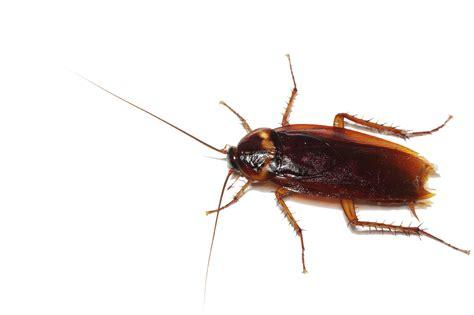cockroach: (206, 97, 443, 244)
